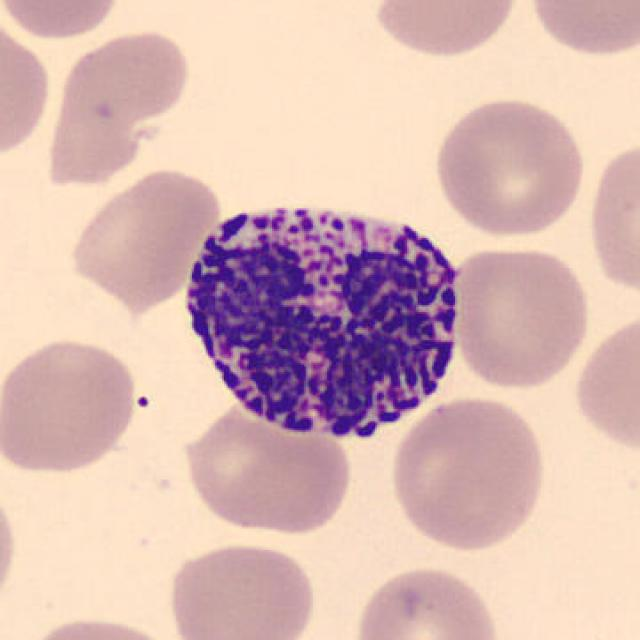Basophil: (167, 180, 478, 453)
RBC: (386, 392, 551, 556), (178, 400, 354, 538), (43, 23, 194, 183), (428, 92, 588, 240), (66, 164, 224, 309), (448, 240, 594, 391), (0, 331, 142, 478), (163, 537, 320, 640), (350, 560, 506, 640), (569, 305, 638, 460), (368, 0, 523, 62), (585, 132, 640, 302), (0, 12, 55, 164), (523, 0, 638, 62), (0, 0, 124, 42), (14, 612, 185, 640), (0, 476, 23, 619)
